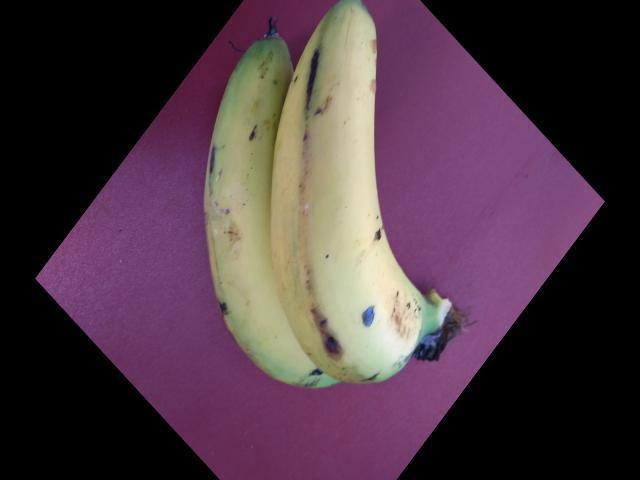ripe: (250, 0, 428, 407), (181, 31, 336, 448)
